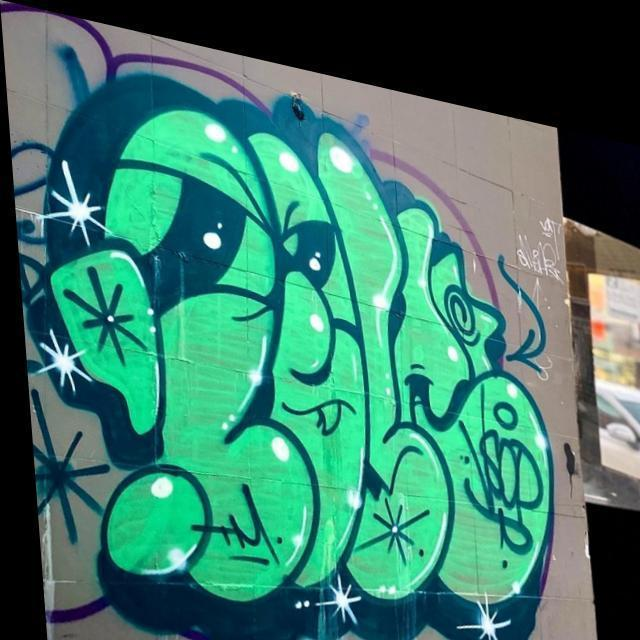nonspitting: (30, 67, 555, 640)
